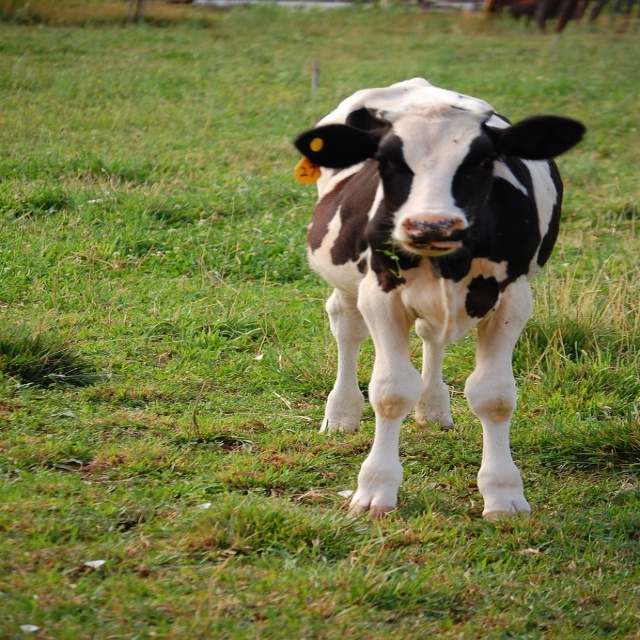Cattle: (296, 75, 591, 520)
